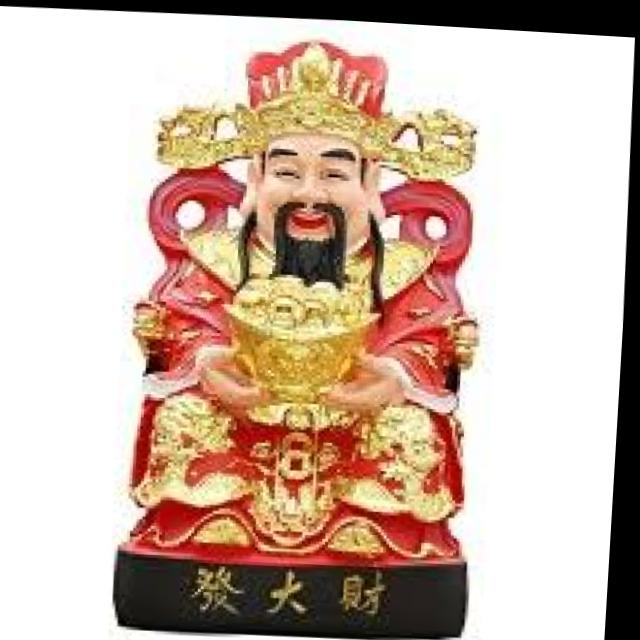Cai shen: (130, 20, 496, 557)
